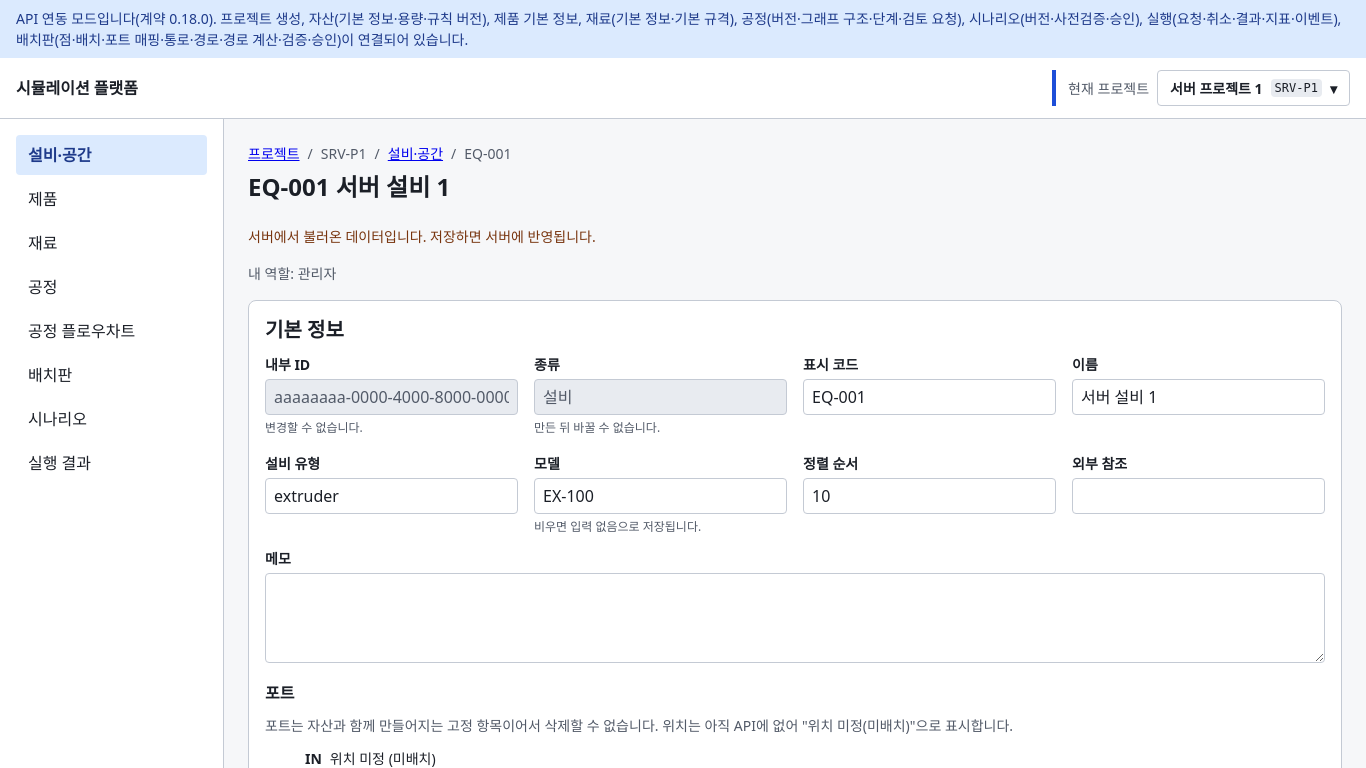
자산 기본 정보 저장 (PATCH) › 여러 필드를 바꾸면 그 필드만 보낸다(바꾸지 않은 필드는 본문에 없다)
The image size is (1366, 768).
Expected: the heading "EQ-001 서버 설비 1" is shown, [248,172,450,202]
Replace the text in the field labelled "이름" with "이름 둘" at (1198, 397), box [1072,379,1325,415]
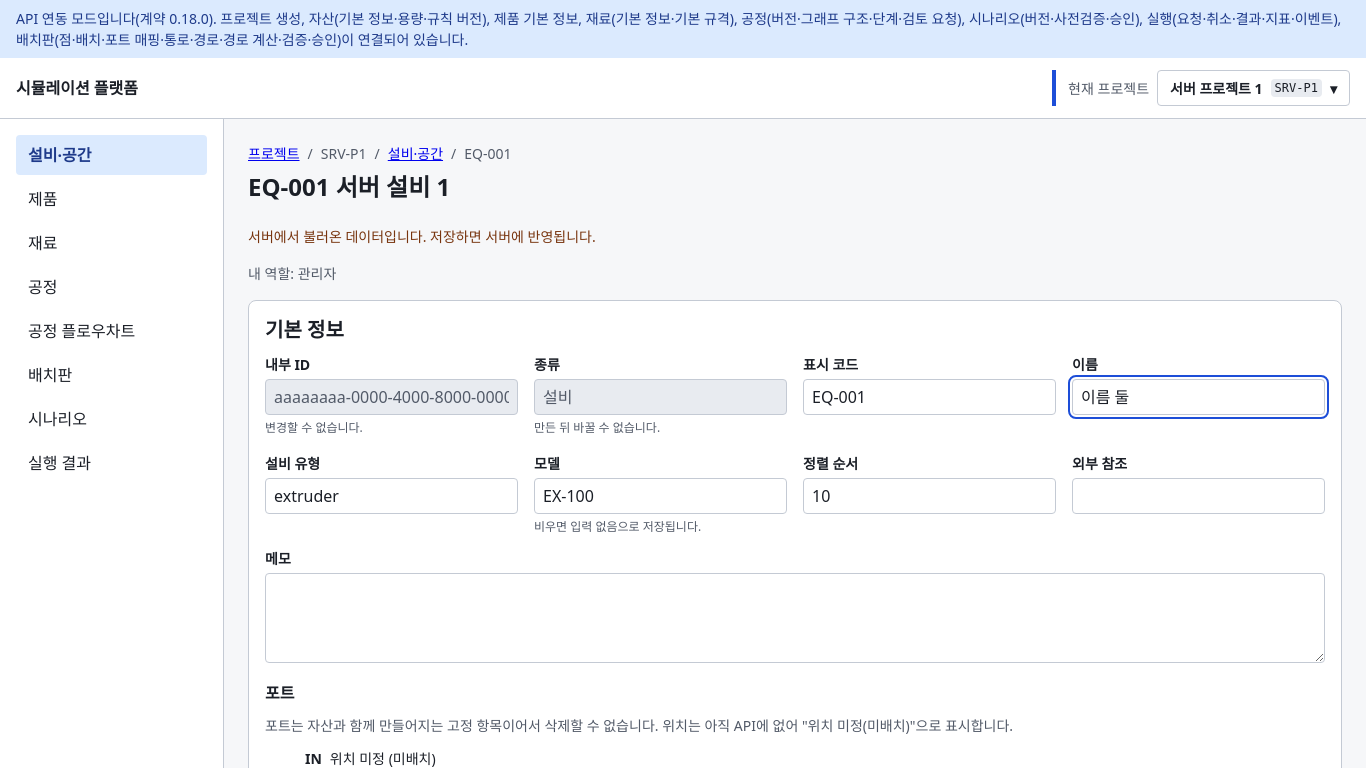
Type "메모 둘" into the text box labelled "메모" at (795, 618), box [265,573,1325,663]
(page scrolled)
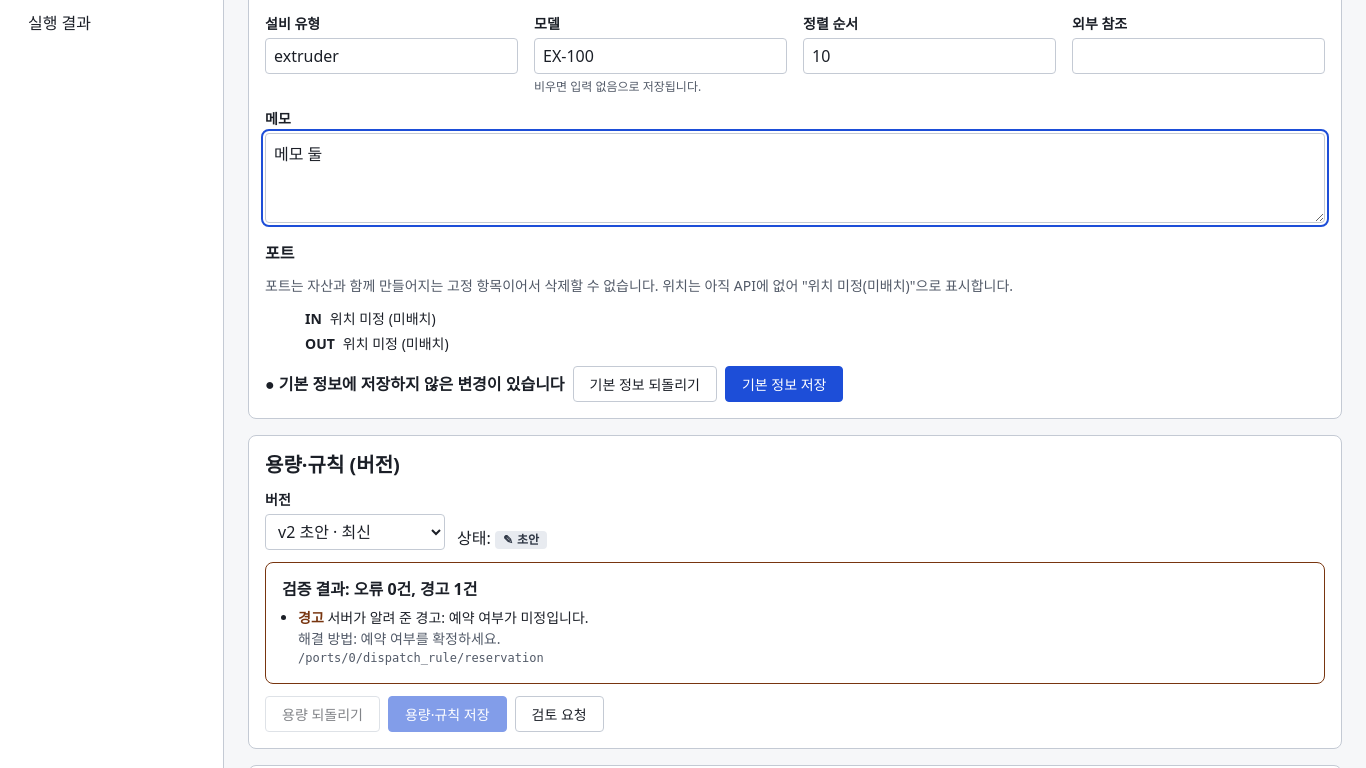
Click the button "기본 정보 저장" at (784, 384), box [725,366,844,402]
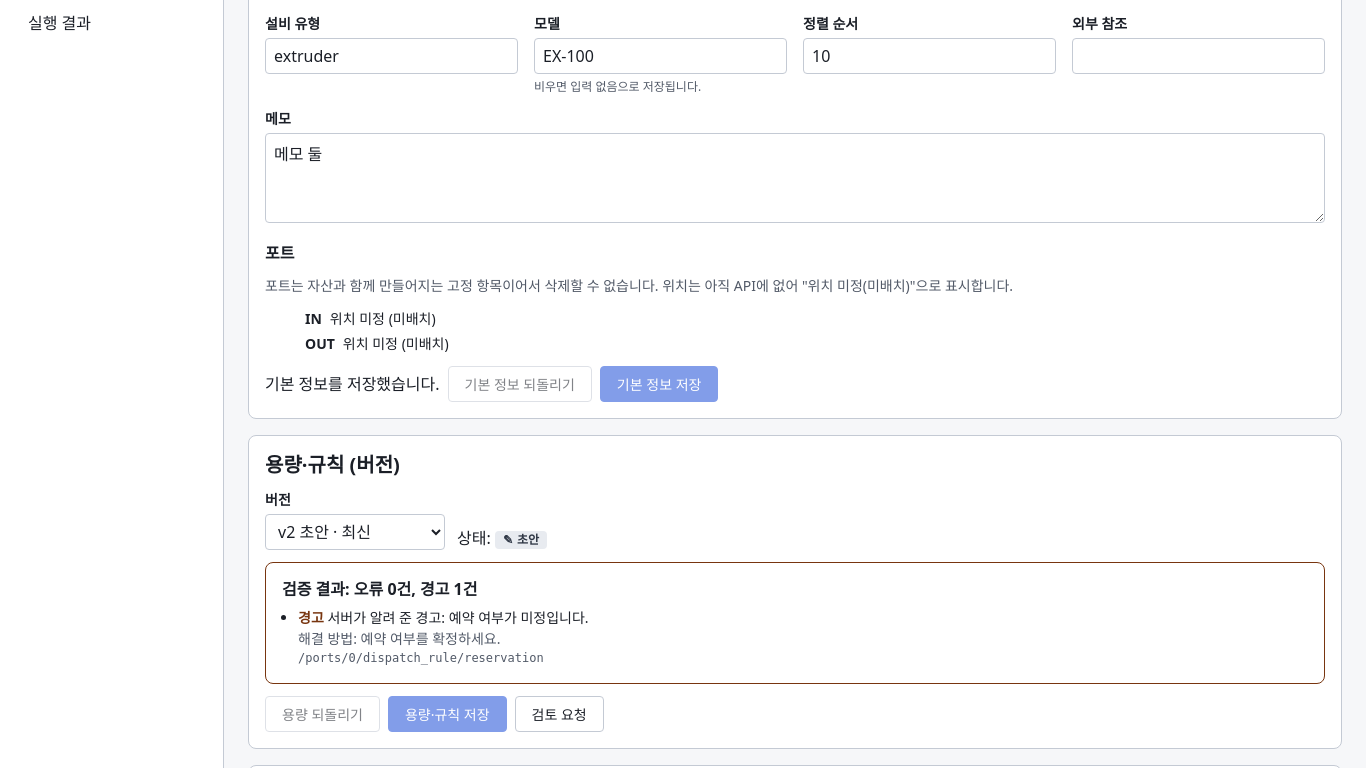
Result: the text "기본 정보를 저장했습니다." is shown at [265,372,440,396]
